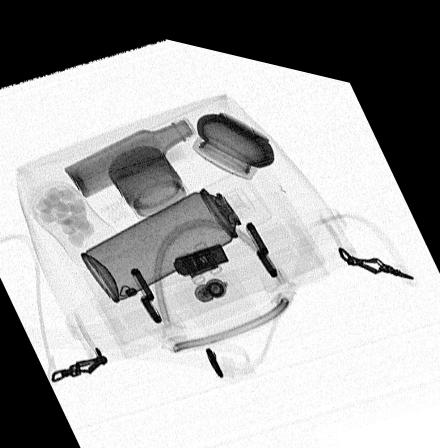Sprayer: (79, 155, 271, 297)
